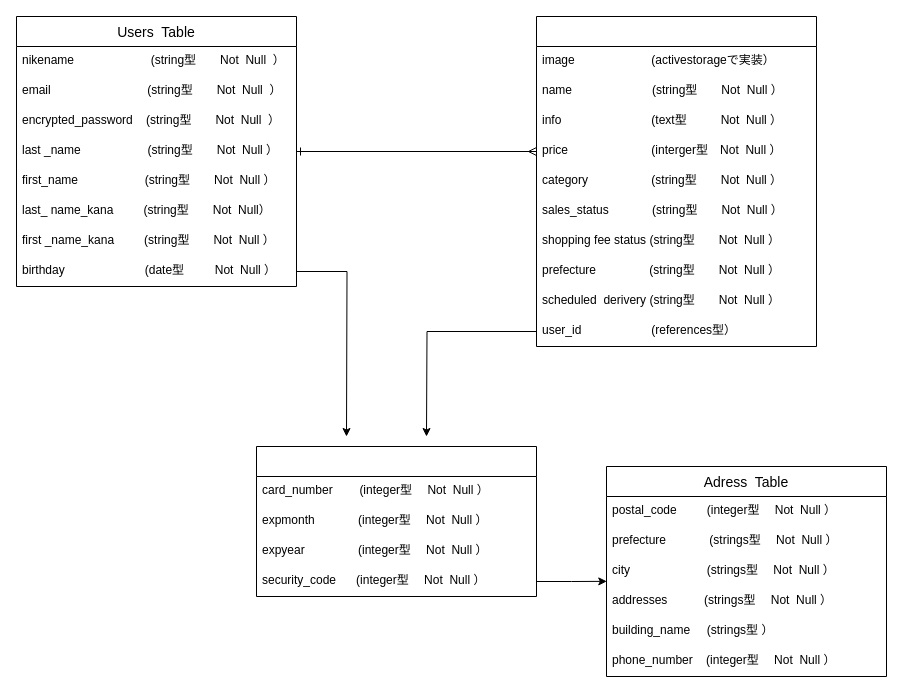
This 903x693 diagram has some shape labels left out. Here are the shapes that lost their labels. From the top down, the box of each, then its label:
(536, 16, 816, 346): Items Table
(256, 446, 536, 596): Order Table
